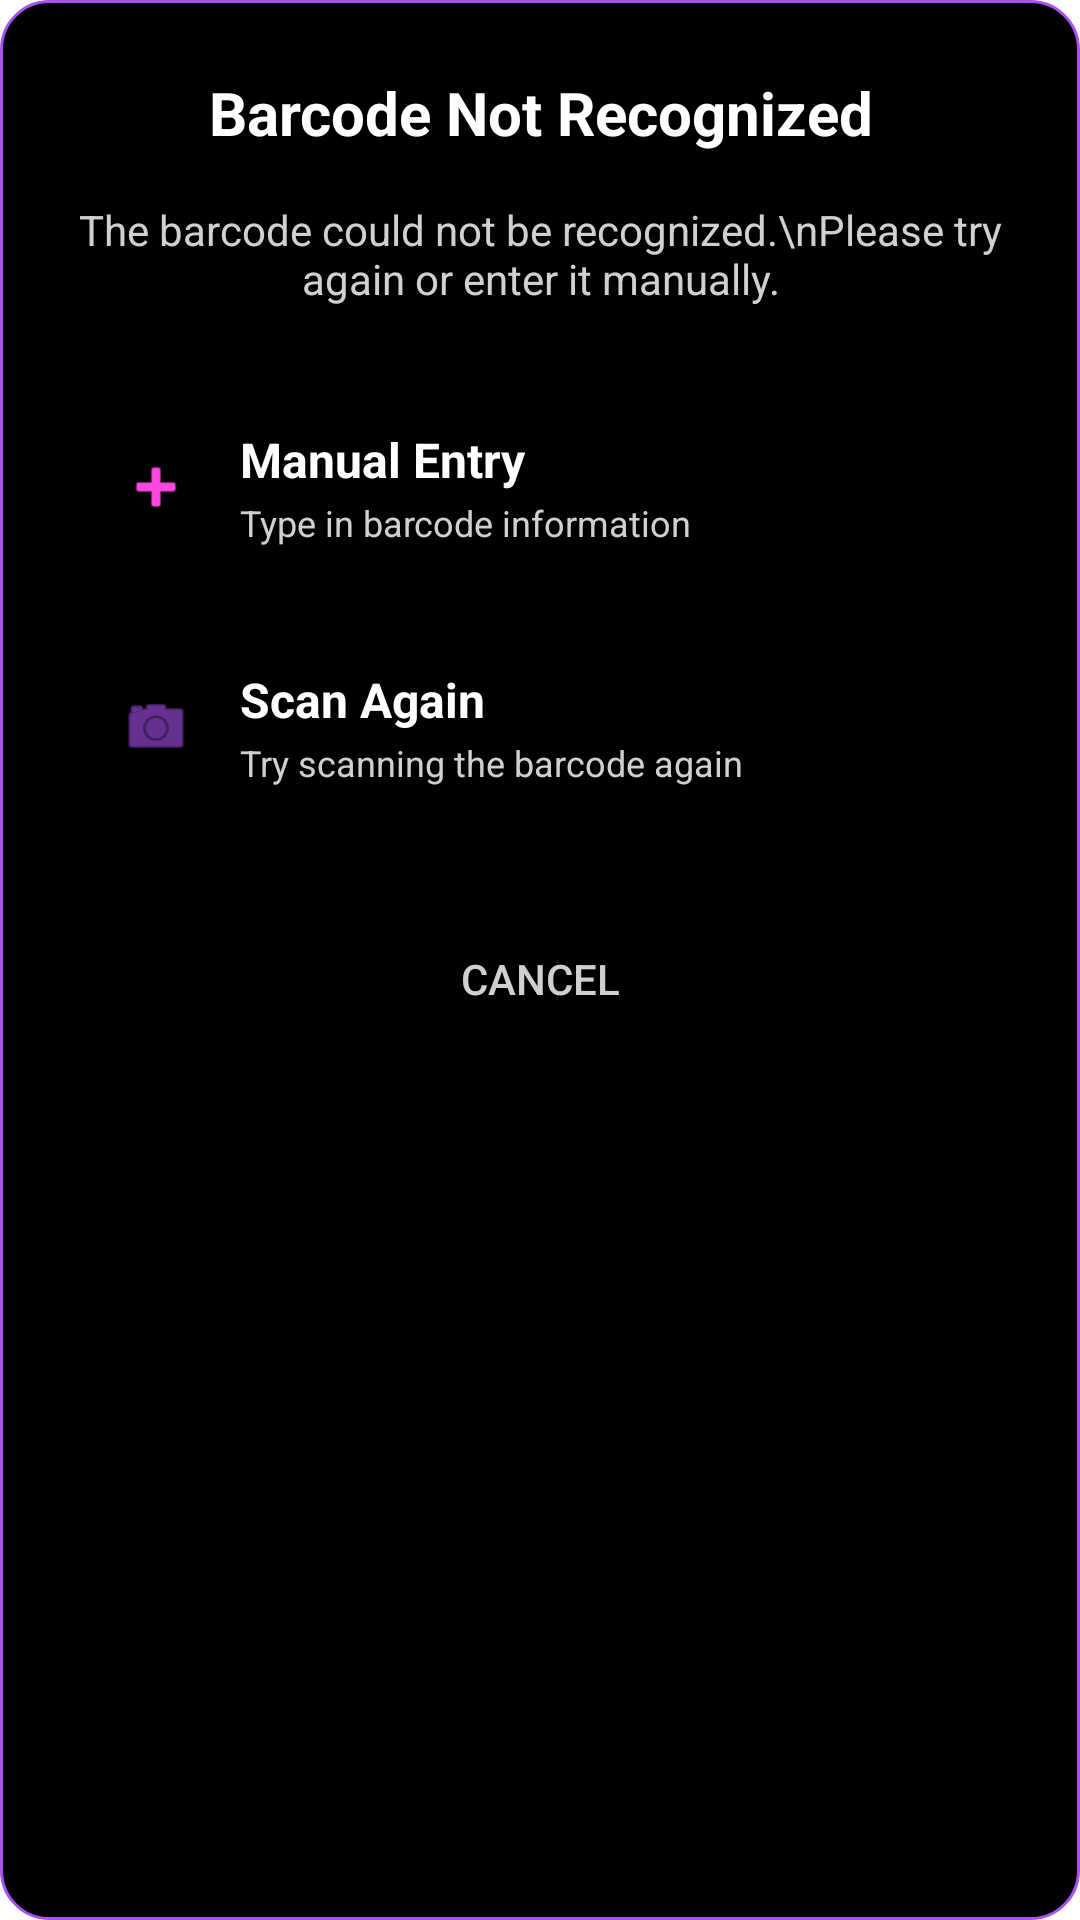

Where icons sit on this 1080*1920 app screen, as {"x1": x1, "y1": y1, "x2": x2, "y2": y2}:
add: {"x1": 135, "y1": 467, "x2": 177, "y2": 507}
camera: {"x1": 128, "y1": 704, "x2": 184, "y2": 748}
